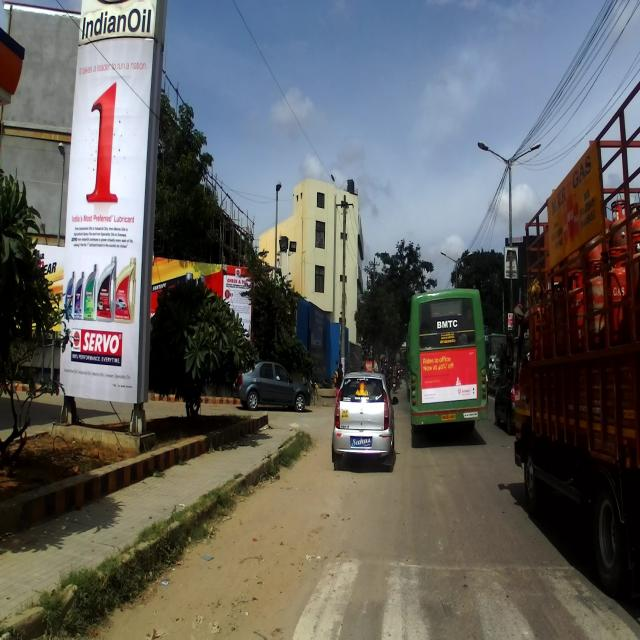bus: (406, 288, 491, 443)
car: (331, 371, 398, 474), (233, 360, 311, 412)
truck: (511, 84, 639, 596)
